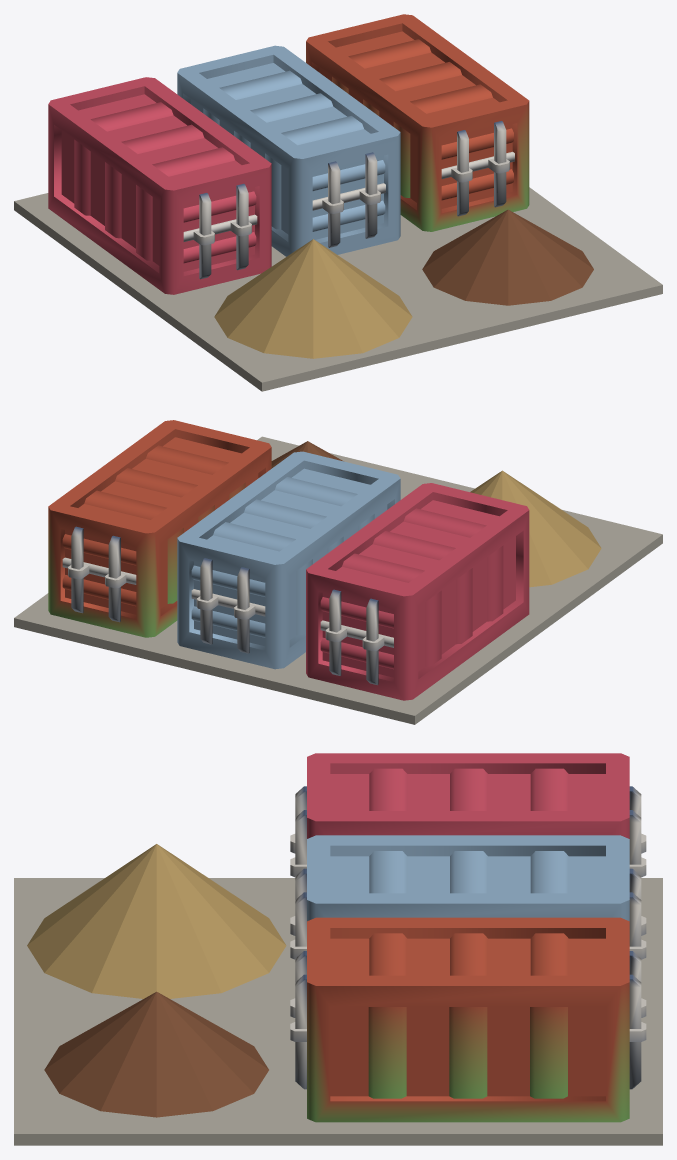
Rendered from compost.glb.
3 views of the same model, one above another, from view 1: azimuth 30°, elevation 25°; view 2: azimuth 150°, elevation 25°; view 3: azimuth 270°, elevation 25° (orthographic). The views are drawn at different scales.
Parts seen in each view (by area): view 1: compost; view 2: compost; view 3: compost.
Part boxes in pixels (box(x1,y1,x2,y2)): compost: box(14, 14, 662, 391); compost: box(14, 420, 662, 724); compost: box(14, 753, 662, 1145).
Size of the model in its own units: 0.84 by 0.2269 by 0.9.
